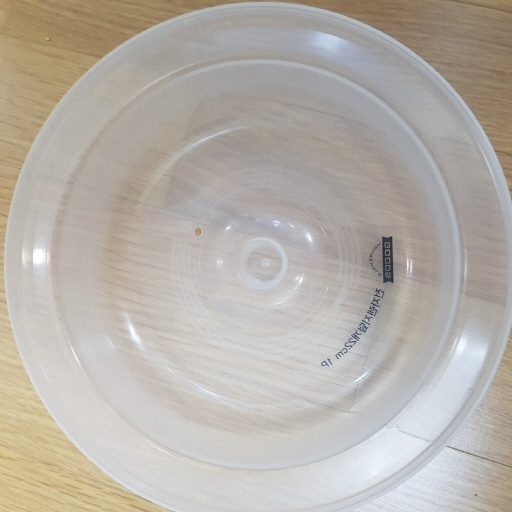Plastic_5: (7, 2, 512, 509)
